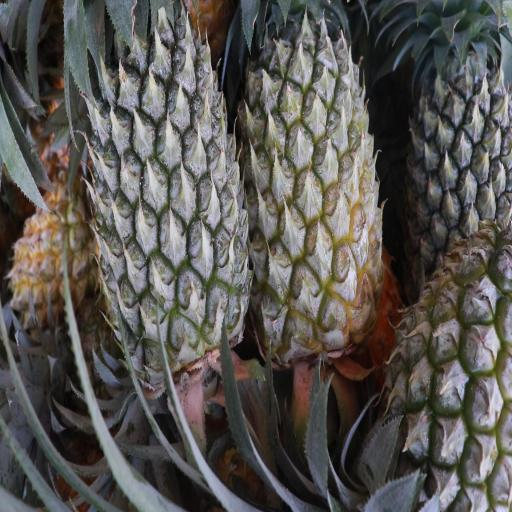------------------------------: (244, 19, 377, 353), (394, 238, 512, 512)
Pineapple - v8 v1: (9, 182, 88, 341)
